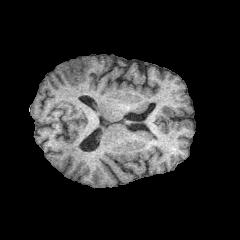glioma: (62, 57, 91, 91)
